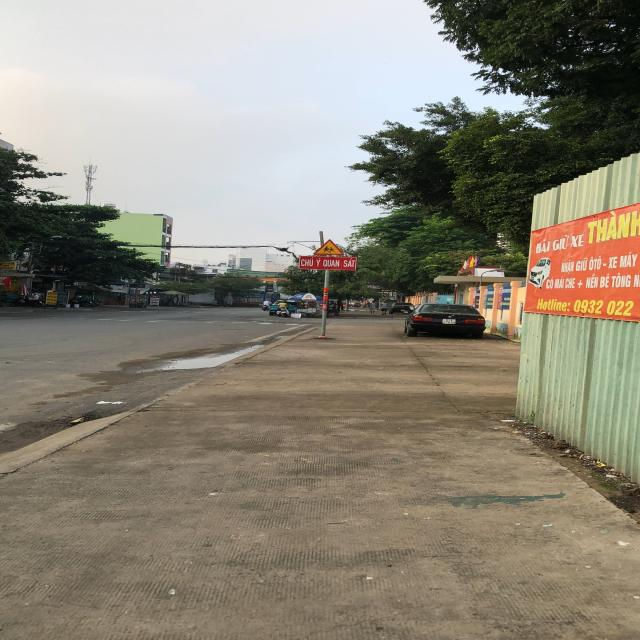Bien bao tre em: (311, 238, 345, 256)
